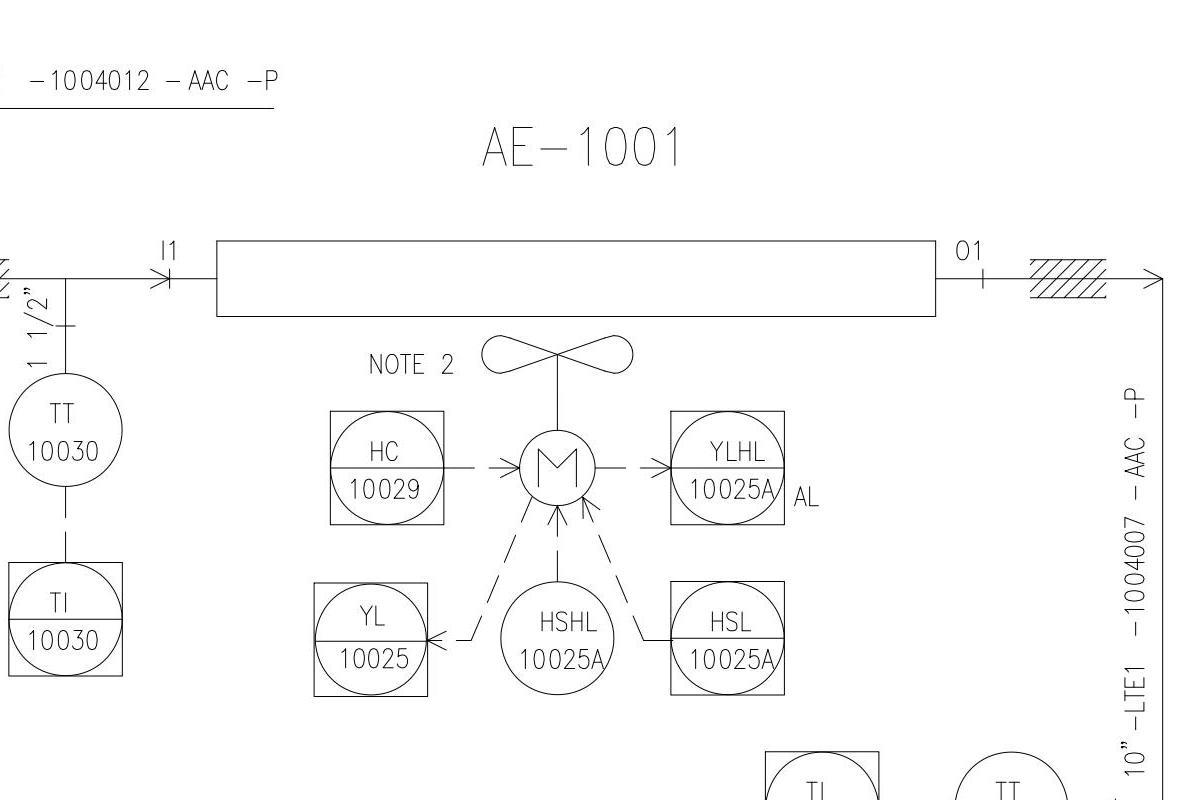AE: (203, 217, 951, 524)
